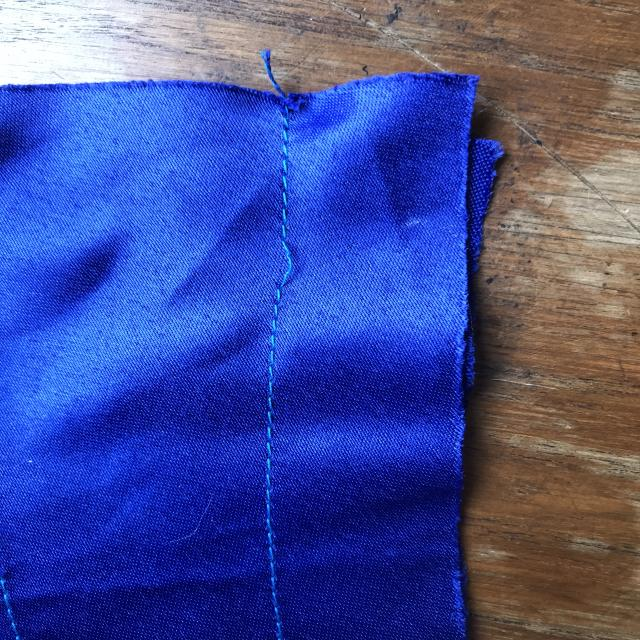good: (249, 372, 292, 505)
skip: (261, 222, 322, 305)
